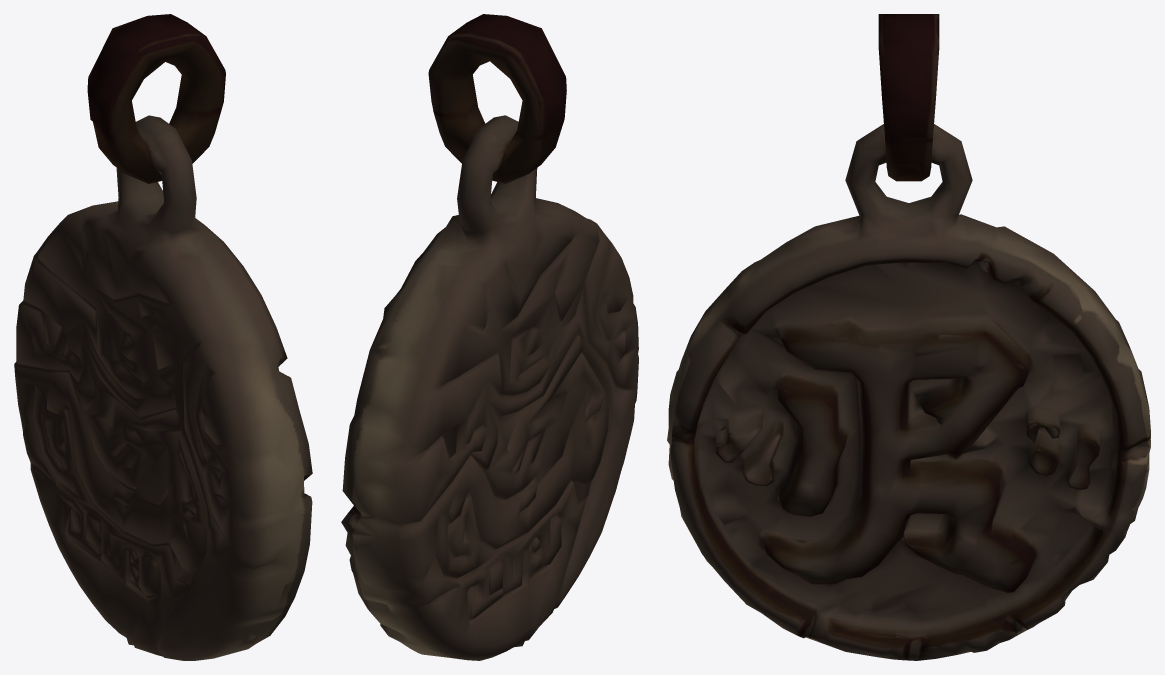
File: luck_charm.glb
3 renders of one model, left to right at view 1: azimuth 30°, elevation 25°; view 2: azimuth 150°, elevation 25°; view 3: azimuth 270°, elevation 25°, orthographic.
Visible parts, largest first — view 1: base_model_path; view 2: base_model_path; view 3: base_model_path.
Part boxes in pixels (bbox=[...]): base_model_path: bbox=[14, 14, 312, 660]; base_model_path: bbox=[341, 14, 638, 660]; base_model_path: bbox=[667, 14, 1150, 660].
Size of the model in its own units: 0.1742 by 0.8513 by 0.5949.
1 material, 1 textured.
